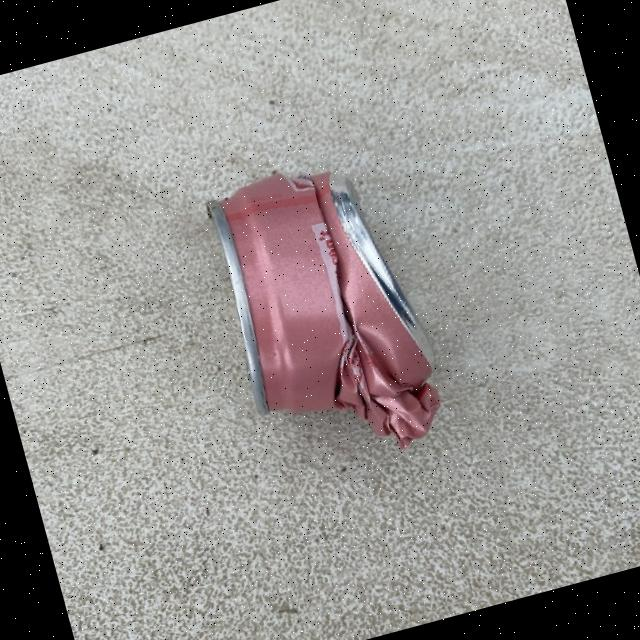metal: (198, 143, 454, 482)
